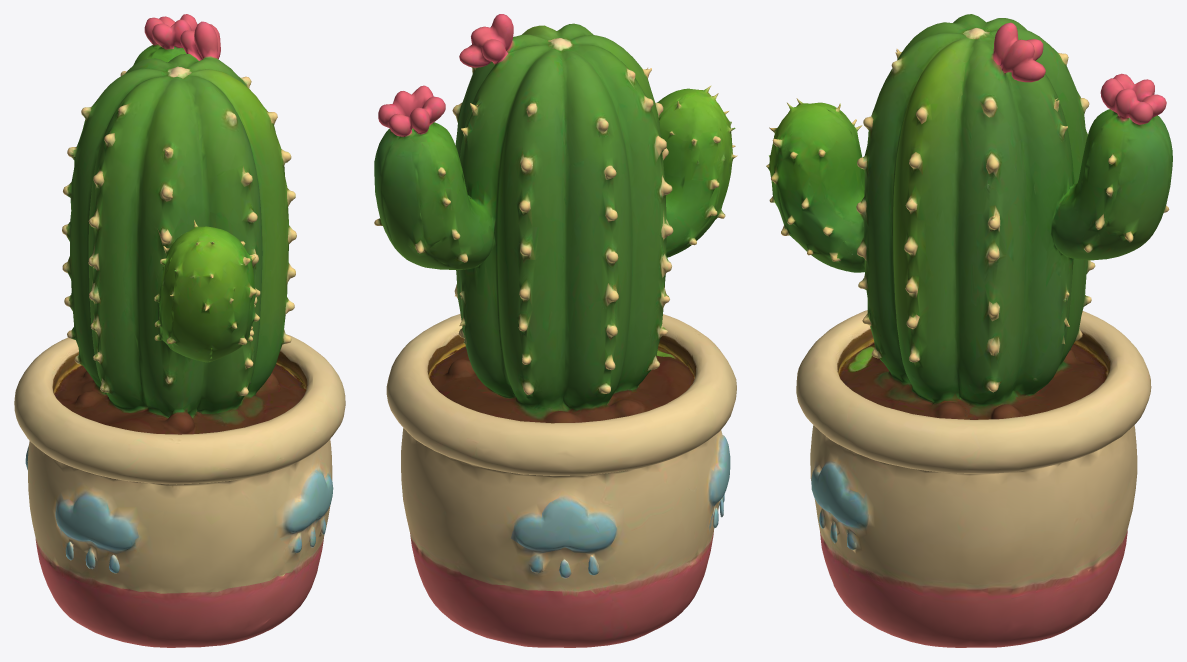
Rendered from room-floor-cactus.glb.
3 views of the same model, side by side, from view 1: azimuth 30°, elevation 25°; view 2: azimuth 150°, elevation 25°; view 3: azimuth 270°, elevation 25° (orthographic). The views are drawn at different scales.
Parts seen in each view (by area): view 1: tripo_node_fe5355d6-b9fb-4e82-9c8d-2b78289b14ae; view 2: tripo_node_fe5355d6-b9fb-4e82-9c8d-2b78289b14ae; view 3: tripo_node_fe5355d6-b9fb-4e82-9c8d-2b78289b14ae.
Part boxes in pixels (x1=…): tripo_node_fe5355d6-b9fb-4e82-9c8d-2b78289b14ae: x1=14, y1=14, x2=345, y2=647; tripo_node_fe5355d6-b9fb-4e82-9c8d-2b78289b14ae: x1=374, y1=14, x2=737, y2=647; tripo_node_fe5355d6-b9fb-4e82-9c8d-2b78289b14ae: x1=766, y1=14, x2=1172, y2=647.
Bounding box in the file's own units: 0.5281 × 0.9772 × 0.6014.
1 material, 1 textured.
